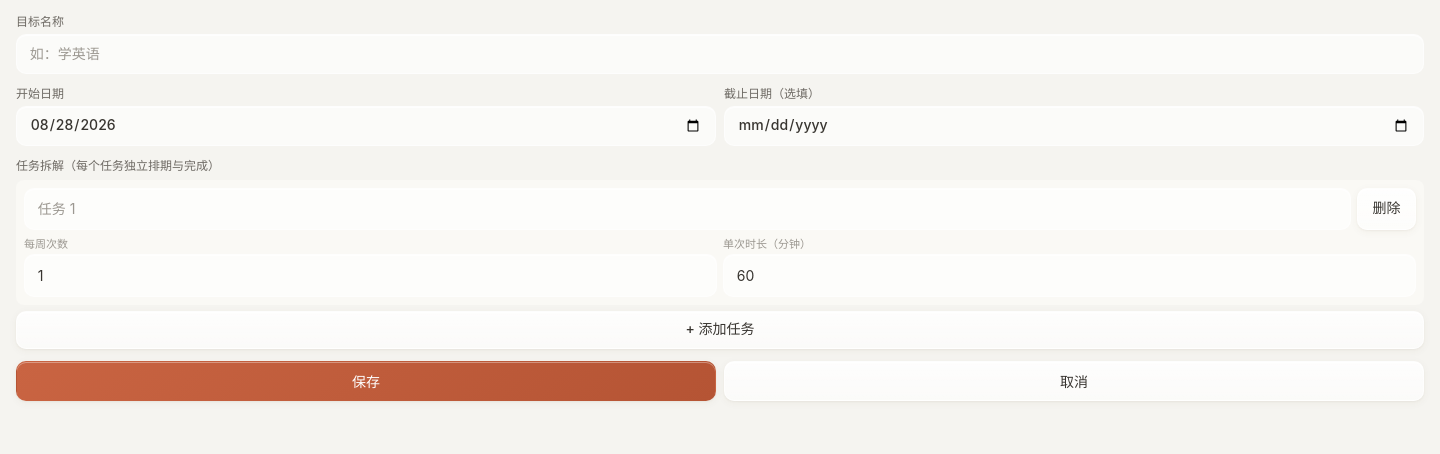
Test: GoalForm › 校验：目标名必填
What coordinates should you click on to do the following:
click the button "保存"
I would click on:
 (366, 381)
Its box is [16,361,716,401].
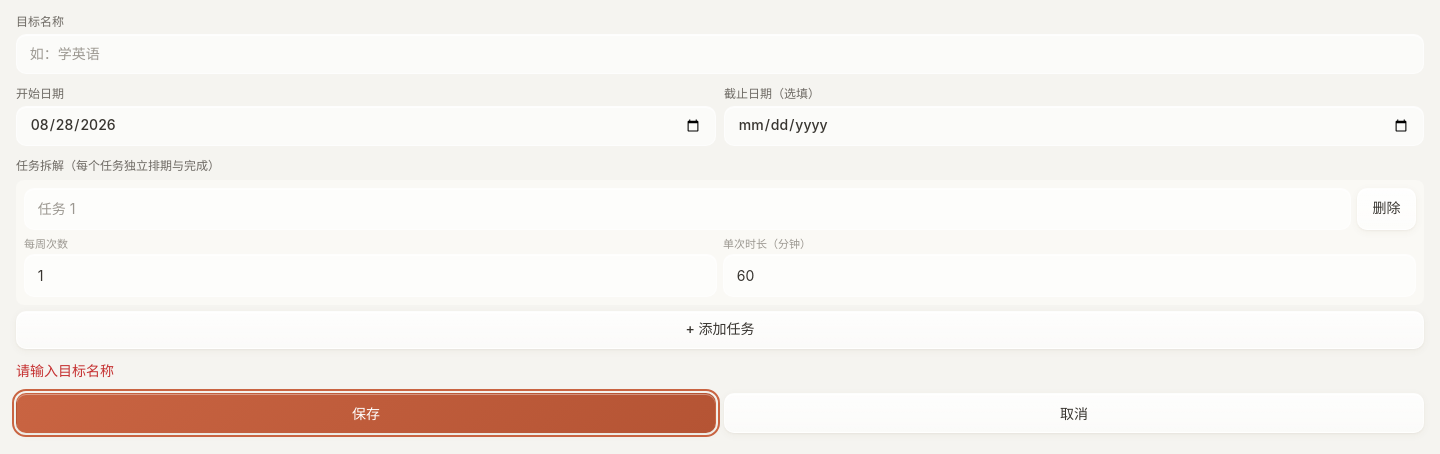
Check: the text with test id "goal-form-error" reads "请输入目标名称", box [16,362,114,379]
